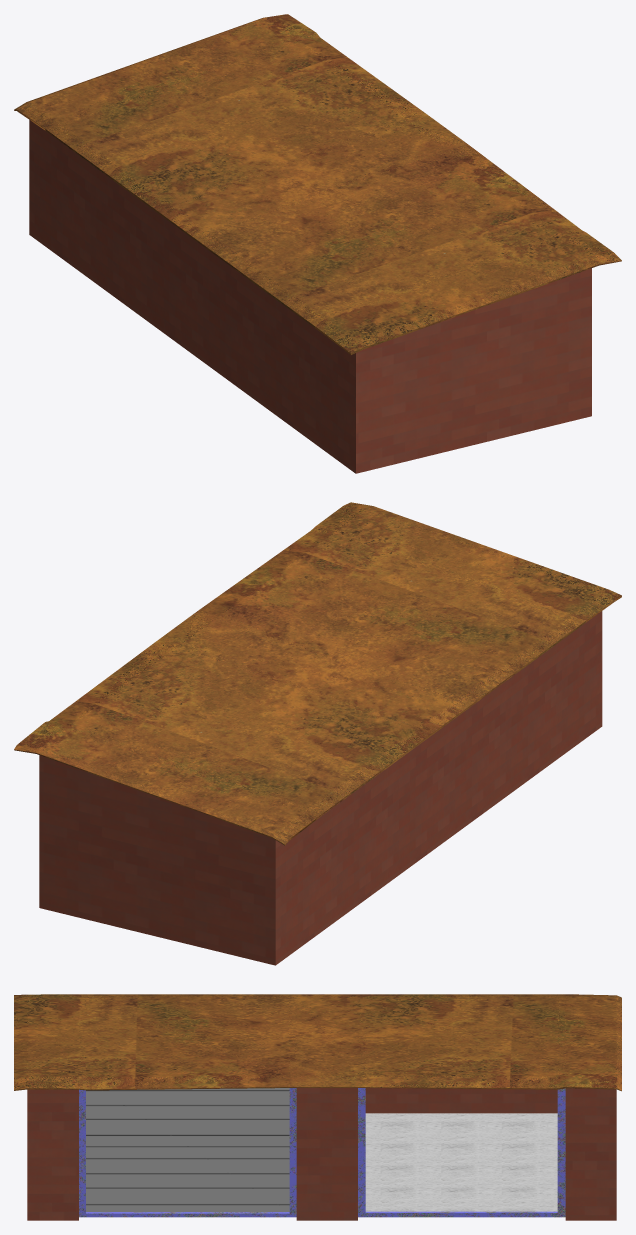
The model's file is garage.fbx.
The picture shows the model from 3 angles, top to bottom: view 1: azimuth 30°, elevation 25°; view 2: azimuth 150°, elevation 25°; view 3: azimuth 270°, elevation 25°; orthographic projection. The views are drawn at different scales.
Parts seen in each view (by area): view 1: Cube.006; view 2: Cube.006; view 3: Cube.006.
Part boxes in pixels (x1,y1,x2,y2): Cube.006: [14, 14, 621, 473]; Cube.006: [14, 502, 621, 965]; Cube.006: [14, 994, 621, 1220].
Bounding box in the file's own units: 607 × 342 × 1307.
